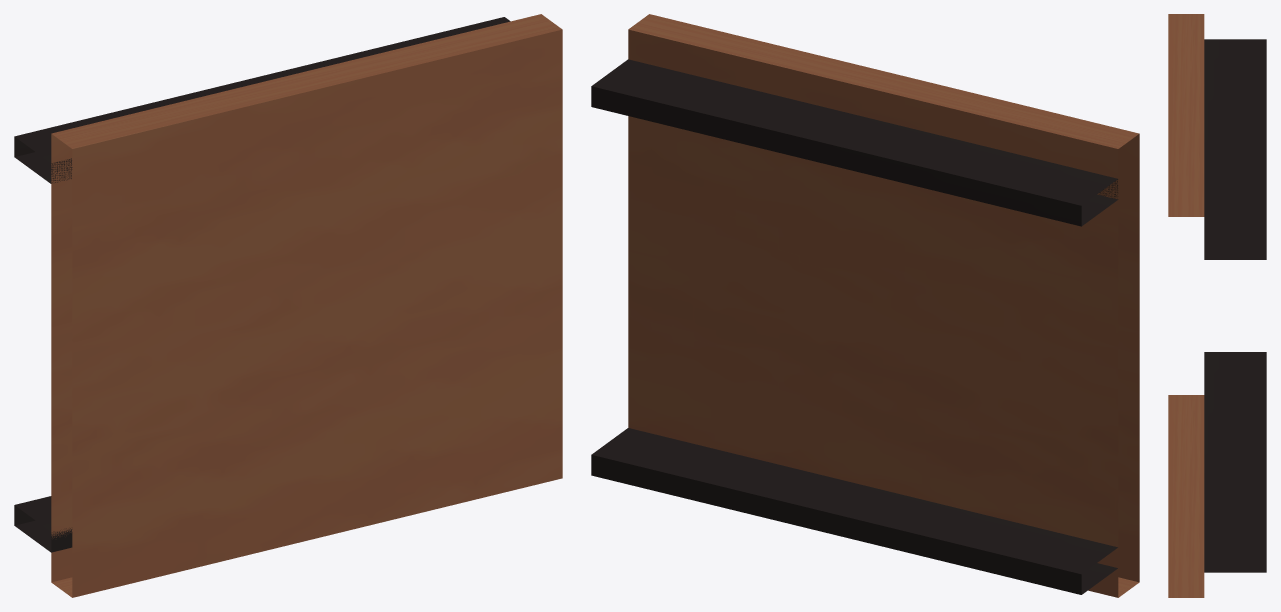
File: pz_table_tables_high_02_long_oak_1_0.obj
3 renders of one model, left to right at view 1: azimuth 30°, elevation 25°; view 2: azimuth 150°, elevation 25°; view 3: azimuth 270°, elevation 25°, orthographic. The views are drawn at different scales.
Bounding box in the file's own units: 1 × 0.875 × 0.205.
Materials: 1 (1 with a texture image).
